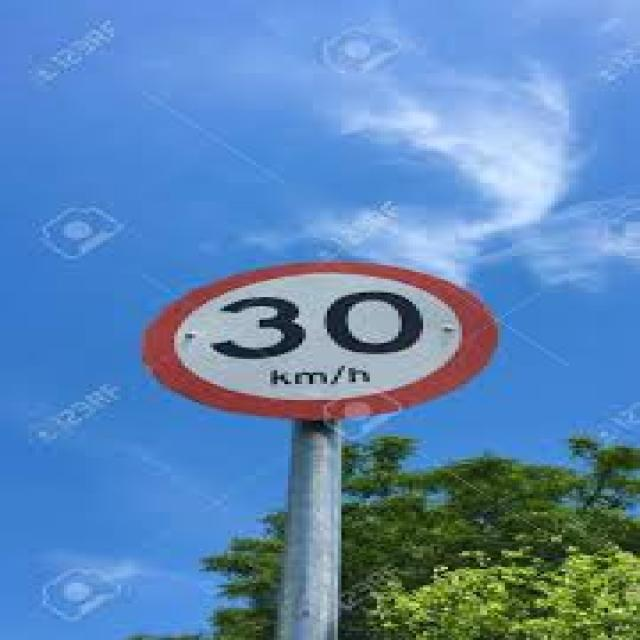Speed limit 30: (140, 257, 502, 424)
